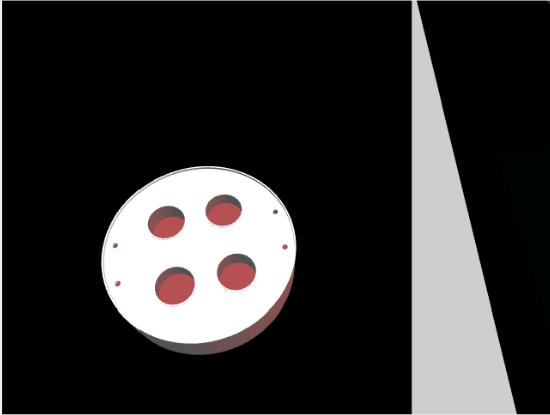hole: (151, 264, 205, 308), (214, 248, 261, 295), (141, 203, 189, 245), (203, 190, 244, 232)
